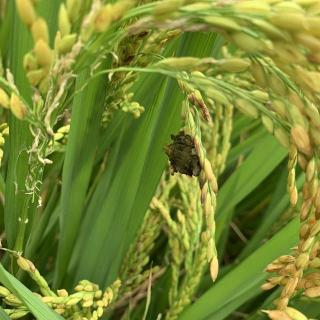Gosong-Palsu: (162, 131, 204, 177)
